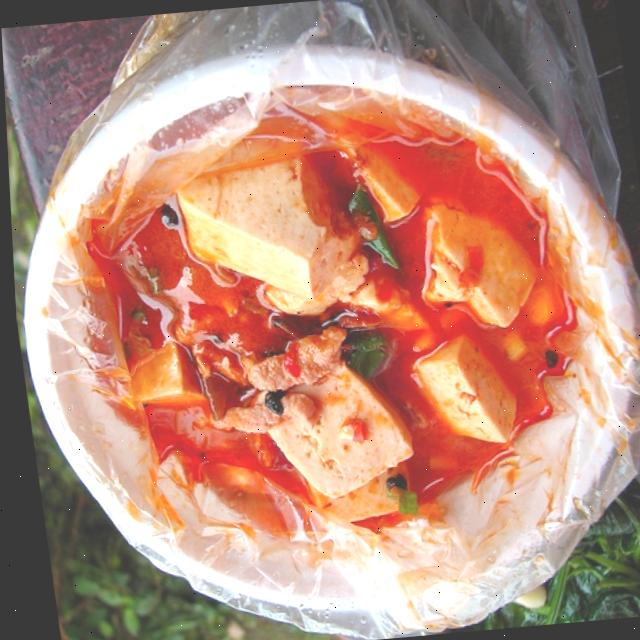豆腐料理: (0, 11, 640, 640)
